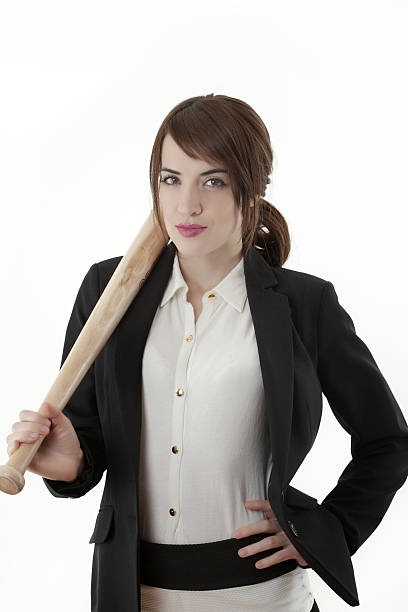bita: (1, 213, 164, 494)
